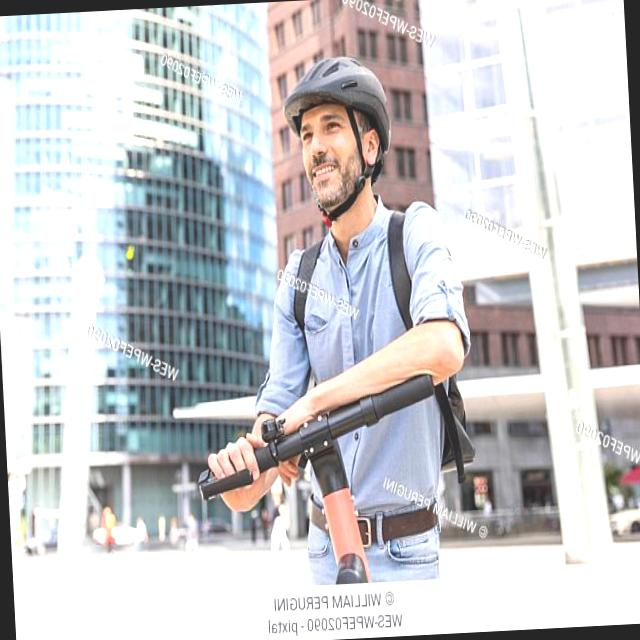no-goggles: (276, 108, 369, 158)
no-helmet: (282, 44, 390, 144)
no-vest: (264, 196, 449, 546)
